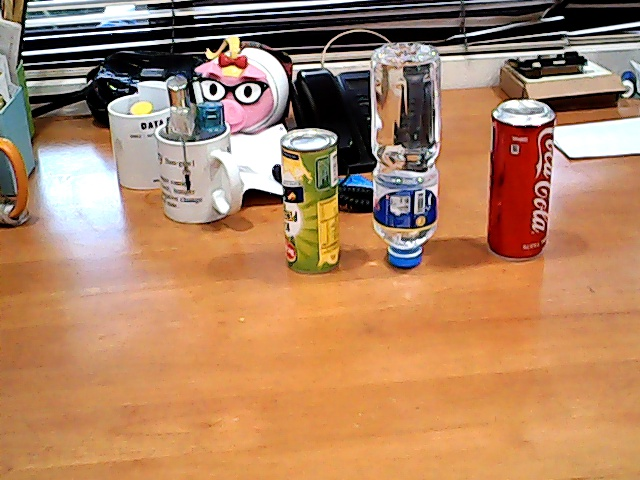Cola: (477, 83, 567, 265)
Pine Juice: (263, 115, 352, 281)
Summit Water: (365, 30, 449, 277)
